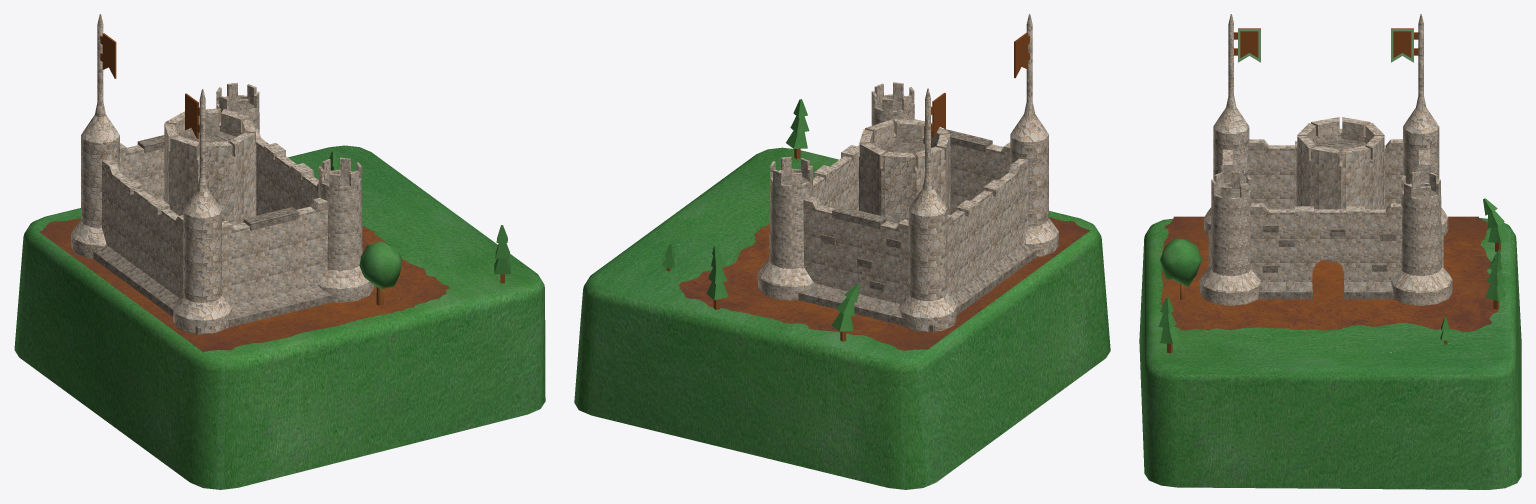
Rendered from Island_2_c.fbx.
The picture shows the model from 3 angles, left to right: view 1: azimuth 30°, elevation 25°; view 2: azimuth 150°, elevation 25°; view 3: azimuth 270°, elevation 25°; orthographic projection. The views are drawn at different scales.
Visible parts, largest first — view 1: Cube.001; view 2: Cube.001; view 3: Cube.001.
Boxes of the visible parts, x1,y1,x2,y2 form: Cube.001: (14, 14, 545, 489); Cube.001: (574, 14, 1110, 489); Cube.001: (1139, 14, 1521, 489).
Bounding box in the file's own units: 225 × 215 × 224.
